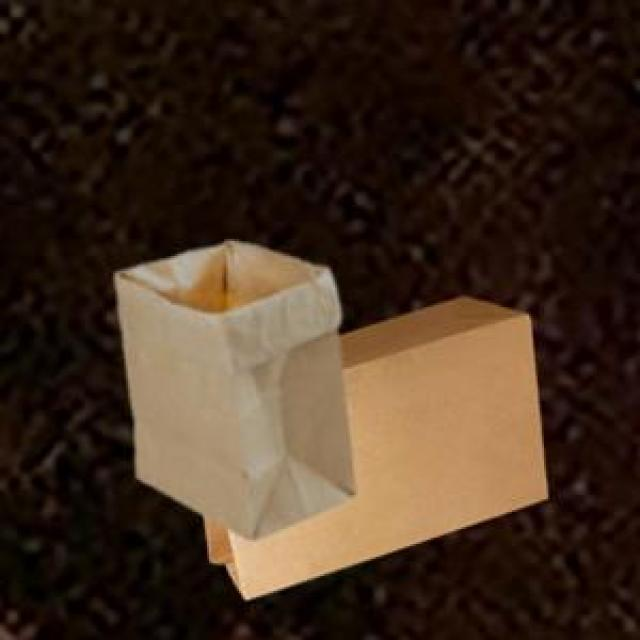paper: (201, 292, 544, 595), (111, 237, 352, 536)
